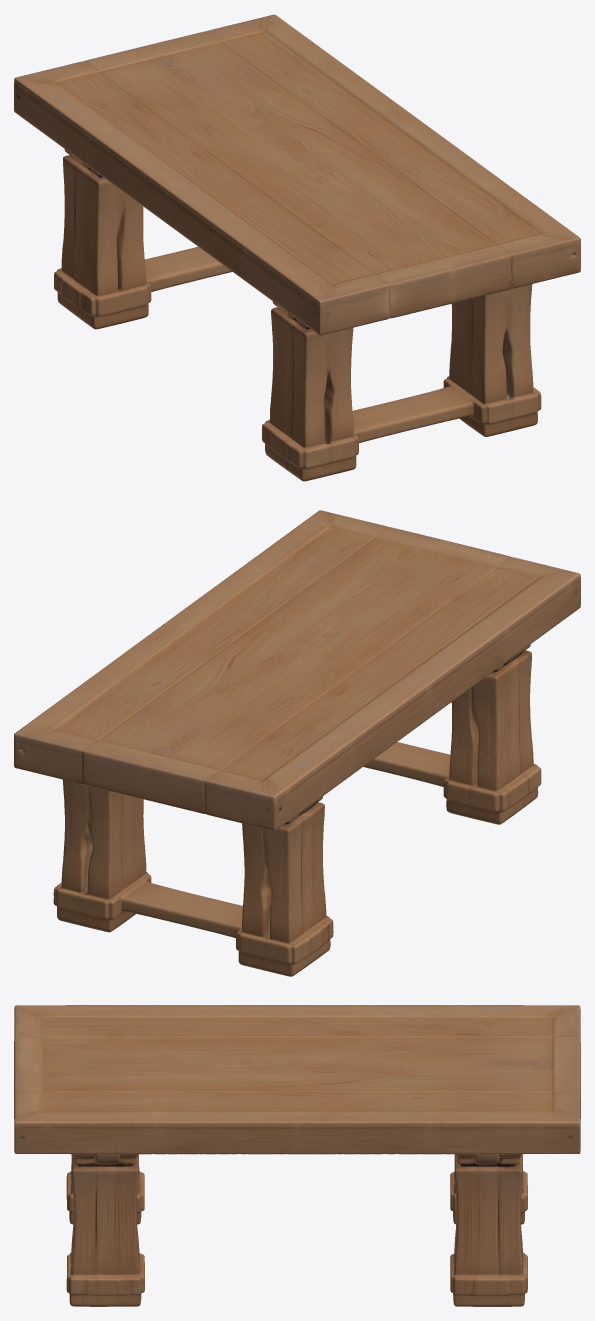
File: detailed_realistic_model_largeoaktable_04.glb
3 views of the same model, one above another, from view 1: azimuth 30°, elevation 25°; view 2: azimuth 150°, elevation 25°; view 3: azimuth 270°, elevation 25° (orthographic). The views are drawn at different scales.
Visible parts, largest first — view 1: tripo_node_42565554-feab-49ce-a4ae-f07cfb06e9a4; view 2: tripo_node_42565554-feab-49ce-a4ae-f07cfb06e9a4; view 3: tripo_node_42565554-feab-49ce-a4ae-f07cfb06e9a4.
Part boxes in pixels (x1,y1,x2,y2): tripo_node_42565554-feab-49ce-a4ae-f07cfb06e9a4: (14, 14, 580, 481); tripo_node_42565554-feab-49ce-a4ae-f07cfb06e9a4: (14, 510, 580, 976); tripo_node_42565554-feab-49ce-a4ae-f07cfb06e9a4: (14, 1005, 580, 1306).
Size of the model in its own units: 0.4928 by 0.3734 by 1.
Materials: 1 (1 with a texture image).
